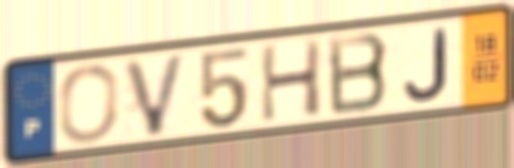5: (197, 44, 251, 130)
B: (324, 30, 392, 119)
H: (258, 36, 325, 126)
J: (401, 25, 452, 103)
O: (56, 62, 121, 146)
V: (120, 50, 191, 140)
